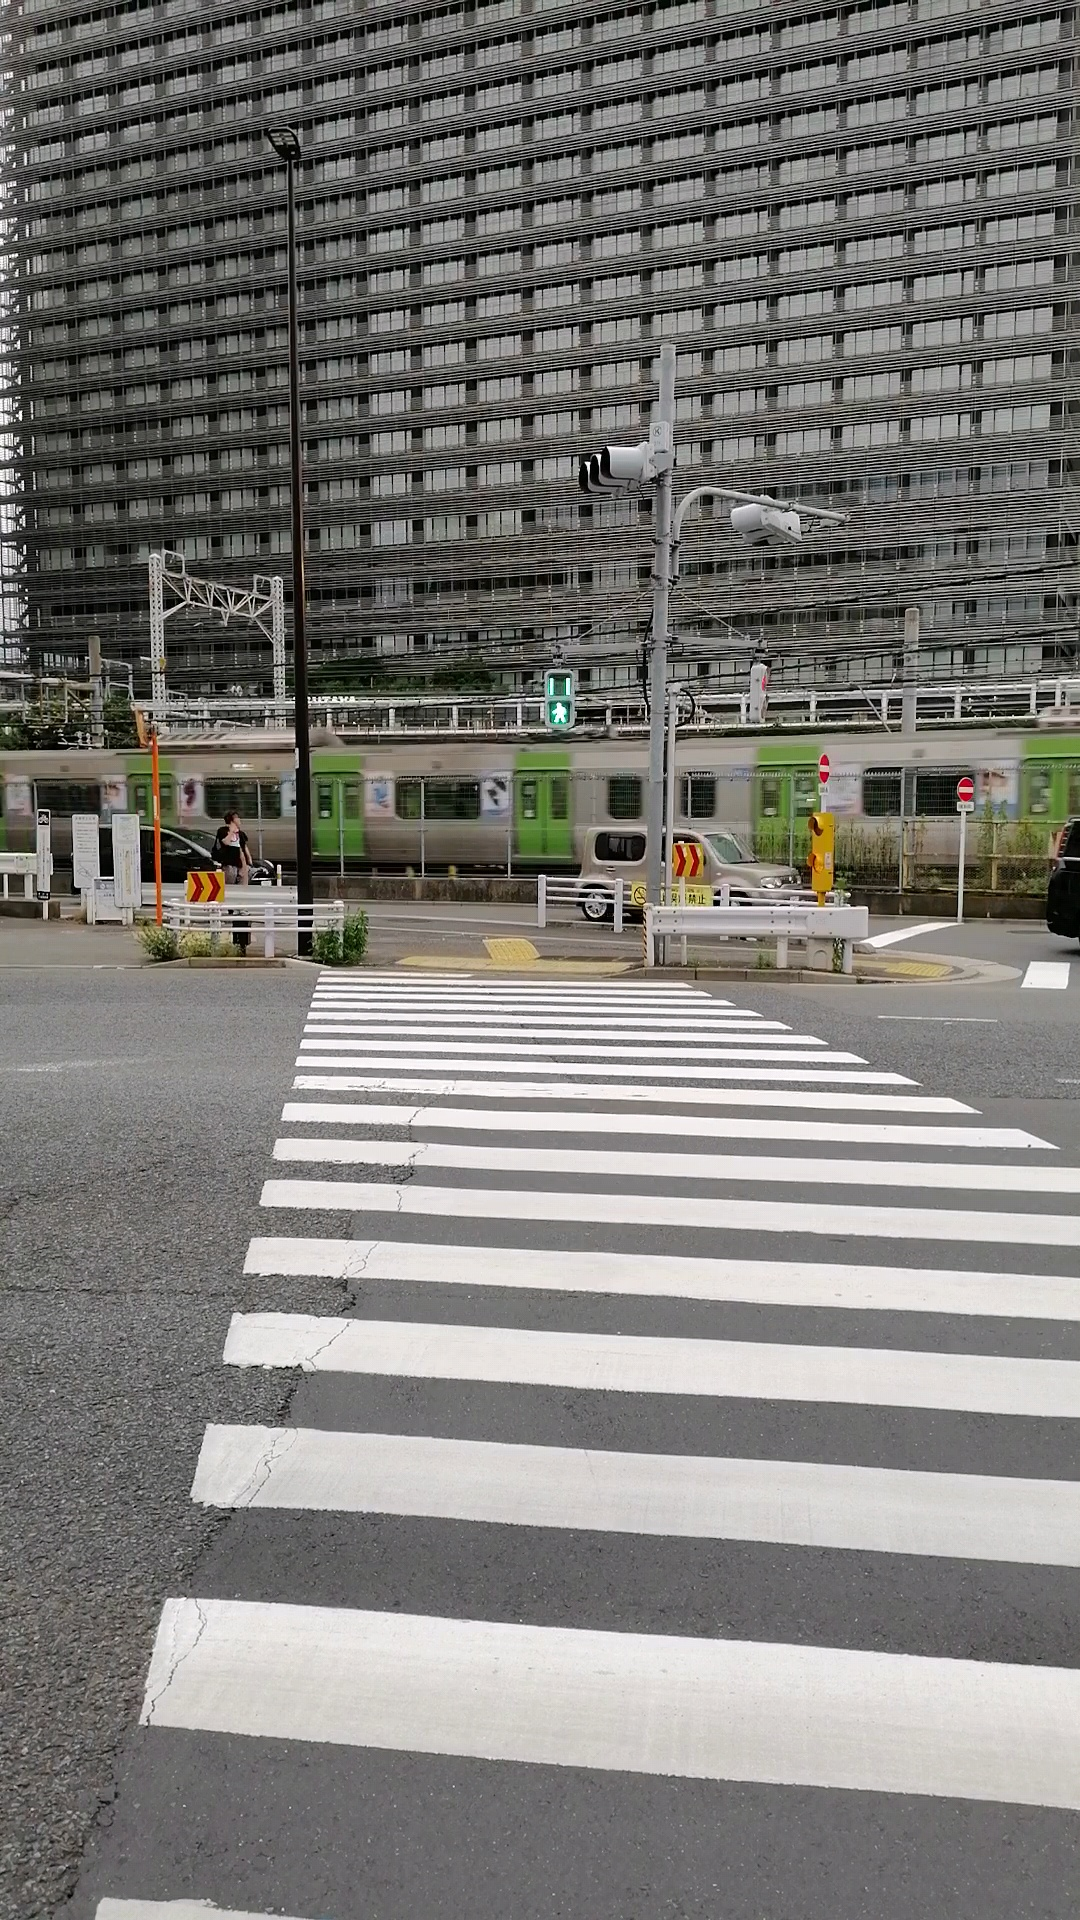green: (542, 669, 575, 727)
